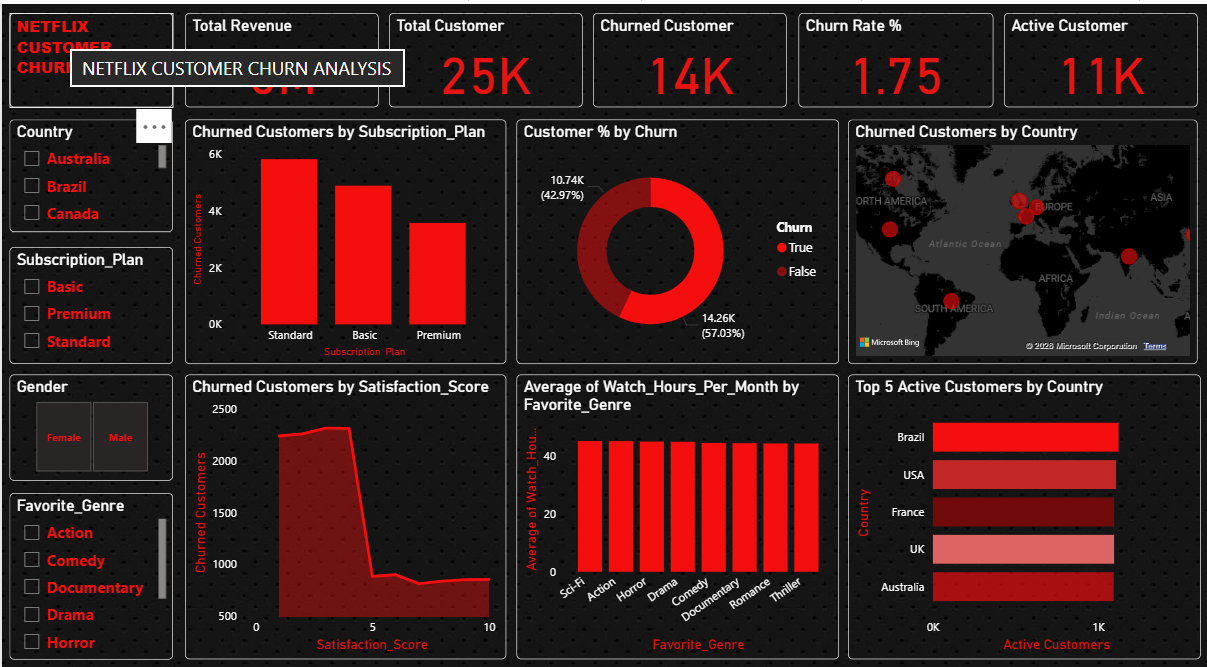

The dashboard page shown, as its layout file describes it:
{"tool":"powerbi","page":{"name":"Page 1","canvas":[1280,720],"ordinal":0},"visuals":[{"type":"card","title":"Total Customer","fields":{"Values":["Netflix.Total_Customers"]},"box":[410.4,9.5,205.2,100.2],"z":0},{"type":"card","title":"Churned Customer","fields":{"Values":["Netflix.Churned Customers"]},"box":[626.7,9.5,205.2,100.2],"z":1000},{"type":"card","title":"Churn Rate %","fields":{"Values":["Netflix.Churn Rate %"]},"box":[844.6,9.5,206.8,100.2],"z":2000},{"type":"card","title":"Active Customer","fields":{"Values":["Netflix.Active Customers"]},"box":[1062.5,9.5,205.2,100.2],"z":3000},{"type":"card","title":"Total Revenue","fields":{"Values":["Netflix.Total Revenue"]},"box":[194.1,9.5,205.2,100.2],"z":4000},{"type":"donutChart","title":"Customer %  by Churn","fields":{"Category":["Netflix.Churn"],"Y":["CountNonNull(Netflix.Customer_ID)"]},"box":[545.6,122.5,342,259.3],"z":5000},{"type":"clusteredColumnChart","fields":{"Category":["Netflix.Subscription_Plan"],"Y":["Netflix.Churned Customers"]},"box":[194.1,122.5,340.4,259.3],"z":6000},{"type":"map","fields":{"Category":["Netflix.Country"],"Size":["Netflix.Churned Customers"]},"box":[897.1,122.5,370.6,259.3],"z":7000},{"type":"barChart","title":"Top 5 Active Customers by Country","fields":{"Category":["Netflix.Country"],"Y":["Netflix.Active Customers"]},"box":[897.1,392.9,373.8,302.2],"z":8000},{"type":"stackedAreaChart","fields":{"Category":["Netflix.Satisfaction_Score"],"Y":["Netflix.Churned Customers"]},"box":[194.1,392.9,340.4,302.2],"z":9000},{"type":"columnChart","fields":{"Category":["Netflix.Favorite_Genre"],"Y":["Avg(Netflix.Watch_Hours_Per_Month)"]},"box":[545.6,392.9,342,302.2],"z":10000},{"type":"slicer","title":"Country","fields":{"Values":["Netflix.Country"]},"box":[8,122.5,173.4,119.3],"z":11000},{"type":"slicer","title":"Subscription_Plan","fields":{"Values":["Netflix.Subscription_Plan"]},"box":[8,257.7,173.4,124.1],"z":12000},{"type":"slicer","title":"Gender","fields":{"Values":["Netflix.Gender"]},"box":[8,392.9,173.4,112.9],"z":13000},{"type":"slicer","title":"Favorite_Genre","fields":{"Values":["Netflix.Favorite_Genre"]},"box":[8,518.5,173.4,176.6],"z":14000},{"type":"textbox","title":"NETFLIX CUSTOMER CHURN ANALYSIS","box":[8,9.5,173.4,100.2],"z":15000}]}

Visuals, with their boxes in screenshot pixels (x1, y1, x2, y2), scaled from the page's 1280x720 canvas onto the 1207x667 screenshot:
"Total Customer" card: box(387, 9, 580, 102)
"Churned Customer" card: box(591, 9, 784, 102)
"Churn Rate %" card: box(796, 9, 991, 102)
"Active Customer" card: box(1002, 9, 1195, 102)
"Total Revenue" card: box(183, 9, 377, 102)
"Customer %  by Churn" donutChart: box(514, 113, 837, 354)
clusteredColumnChart - Netflix.Subscription_Plan x Netflix.Churned Customers: box(183, 113, 504, 354)
map - Netflix.Country x Netflix.Churned Customers: box(846, 113, 1195, 354)
"Top 5 Active Customers by Country" barChart: box(846, 364, 1198, 644)
stackedAreaChart - Netflix.Satisfaction_Score x Netflix.Churned Customers: box(183, 364, 504, 644)
columnChart - Netflix.Favorite_Genre x Avg(Netflix.Watch_Hours_Per_Month): box(514, 364, 837, 644)
"Country" slicer: box(8, 113, 171, 224)
"Subscription_Plan" slicer: box(8, 239, 171, 354)
"Gender" slicer: box(8, 364, 171, 469)
"Favorite_Genre" slicer: box(8, 480, 171, 644)
"NETFLIX CUSTOMER CHURN ANALYSIS" textbox: box(8, 9, 171, 102)
